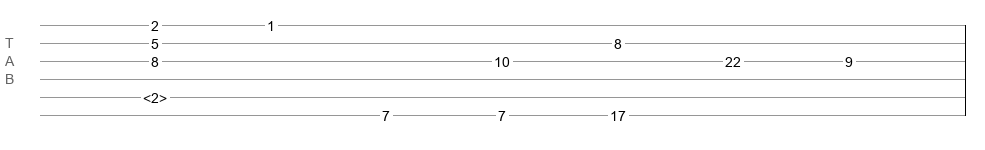1: (267, 18, 275, 28)
10: (494, 54, 510, 64)
17: (610, 108, 626, 118)
2: (151, 18, 159, 28)
22: (725, 54, 741, 64)
5: (151, 36, 159, 46)
7: (382, 108, 390, 118), (498, 108, 506, 118)
8: (151, 54, 159, 64), (614, 36, 622, 46)
9: (845, 54, 853, 64)
harmonic: (143, 90, 167, 100)
